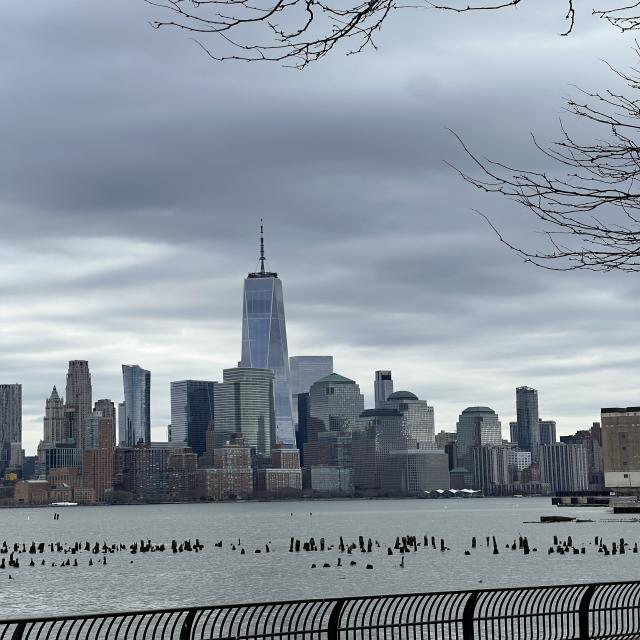WTC: (237, 217, 288, 369)
